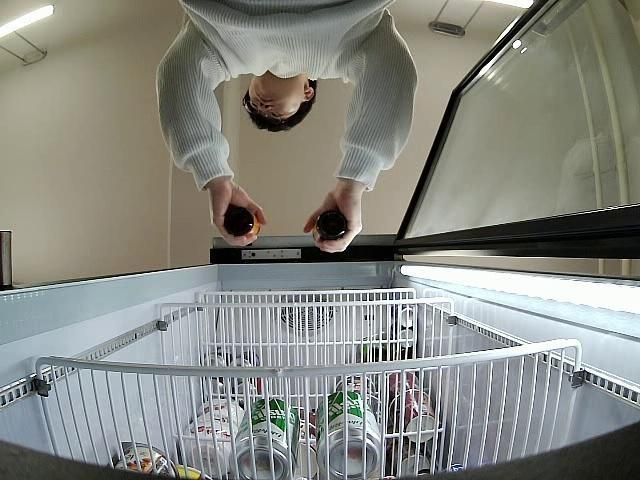17_vita500: (224, 207, 260, 240), (314, 210, 349, 240)
